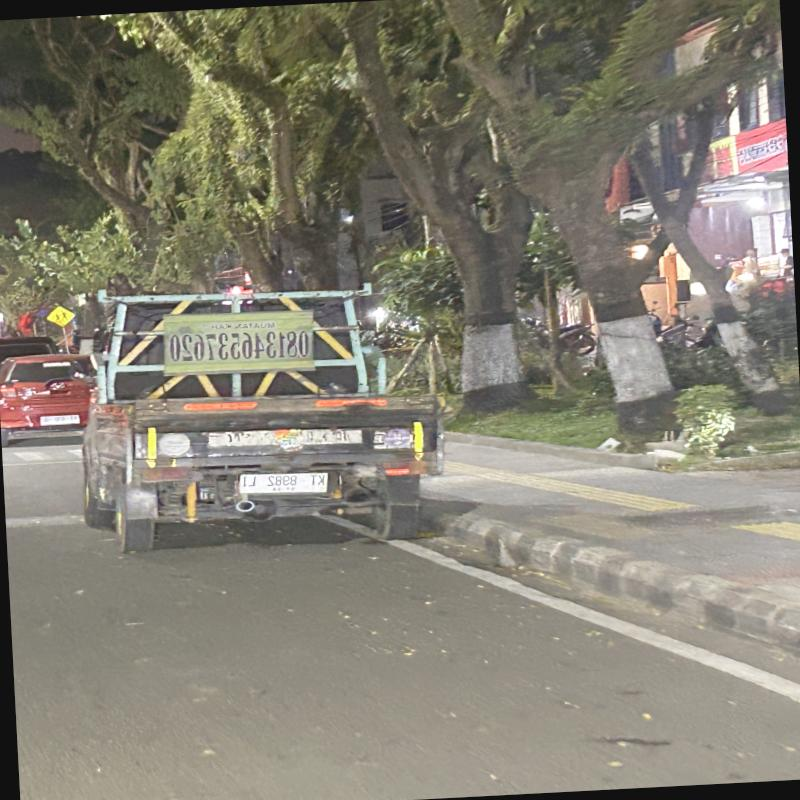license plate on a car: (233, 473, 332, 500)
